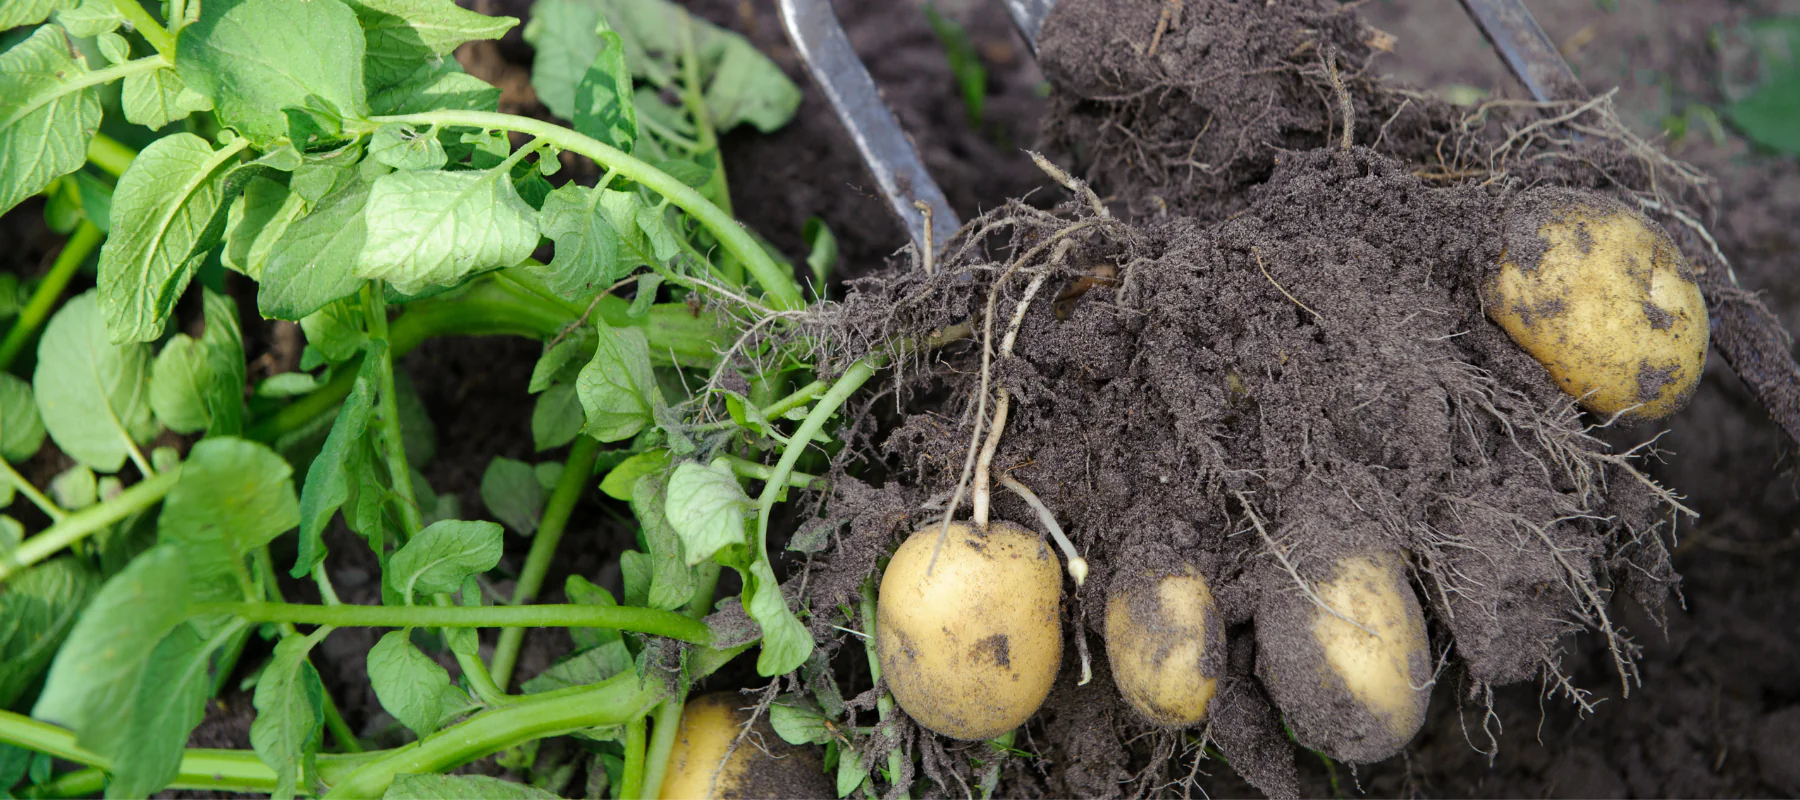potato: (823, 469, 1123, 741)
